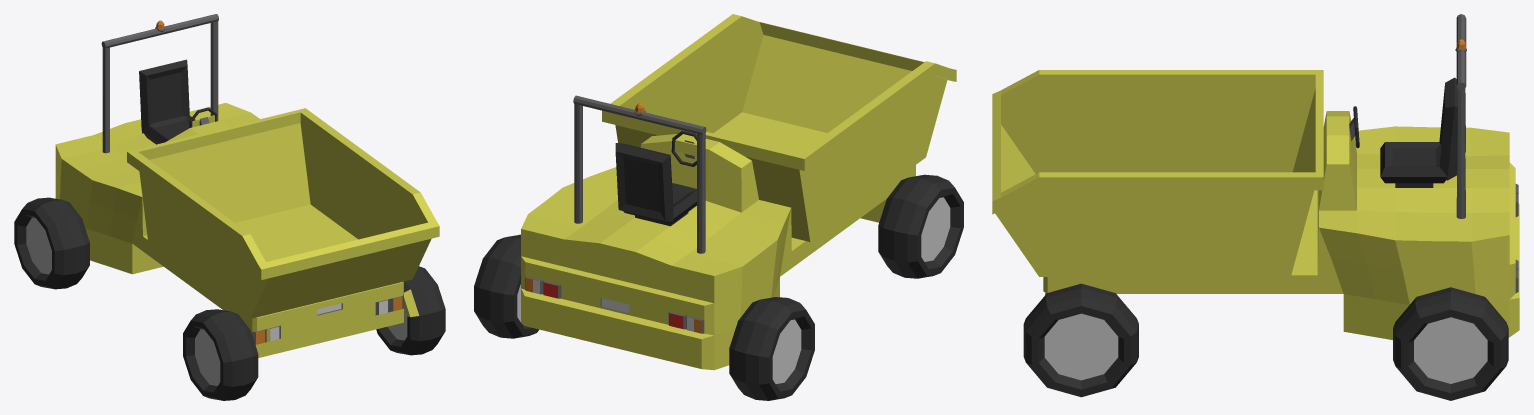
File: DumpTruckTEST.fbx
3 renders of one model, left to right at view 1: azimuth 30°, elevation 25°; view 2: azimuth 150°, elevation 25°; view 3: azimuth 270°, elevation 25°, orthographic. The views are drawn at different scales.
Parts seen in each view (by area): view 1: Cube.002; view 2: Cube.002; view 3: Cube.002.
Part boxes in pixels (left/top/right/bottom): Cube.002: left=14, top=14, right=445, bottom=400; Cube.002: left=474, top=14, right=963, bottom=400; Cube.002: left=992, top=14, right=1519, bottom=400.
Size of the model in its own units: 592 by 524 by 842.
